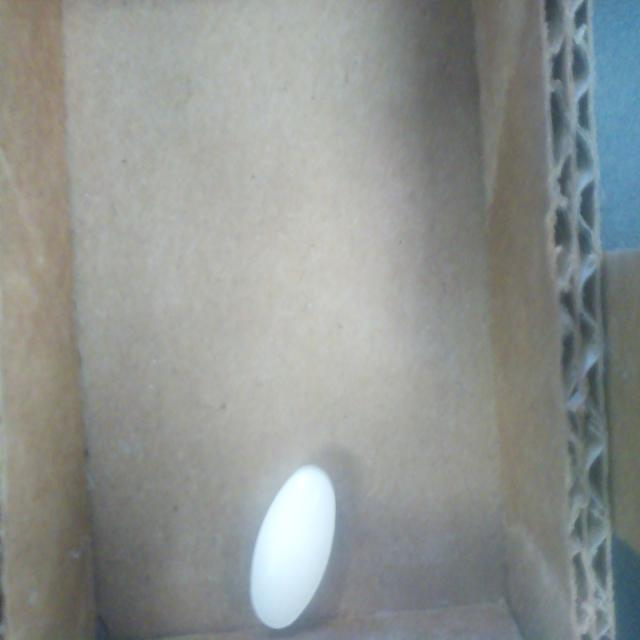pill: (248, 466, 334, 630)
